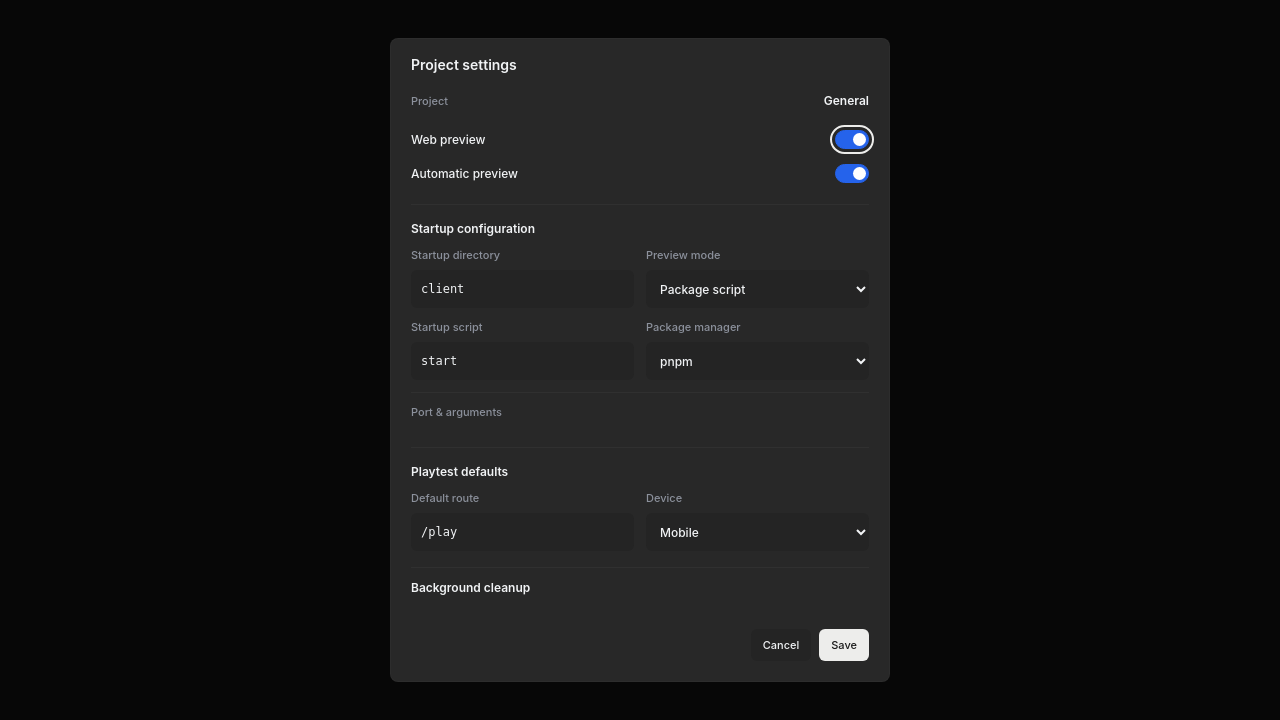
Scenario: preview settings drafts › reports invalid arguments while script mode is active
Replace the text in the field labelled "Port & arguments" with "[": (640, 412) [411, 392, 869, 431]
Wait 300 ms
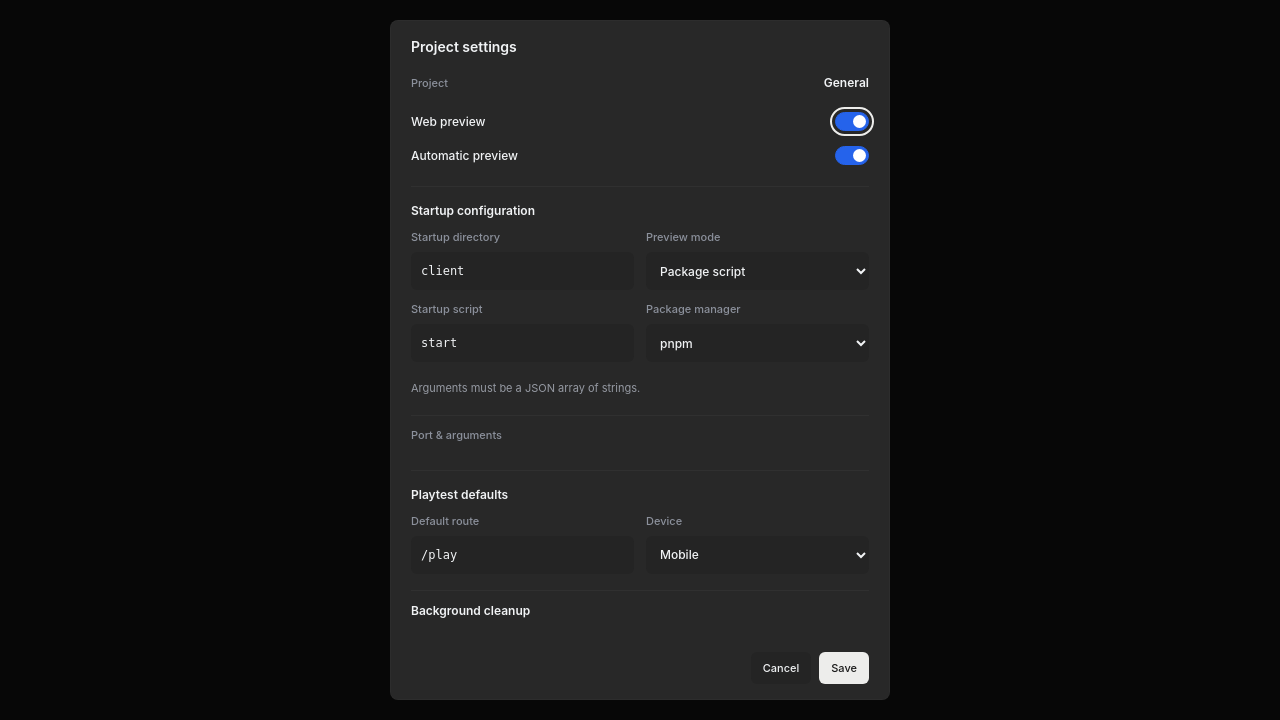
Expected: the text "Arguments must be a JSON array of strings." is shown, [411, 381, 640, 395]
Submit the form, box [391, 71, 889, 704]
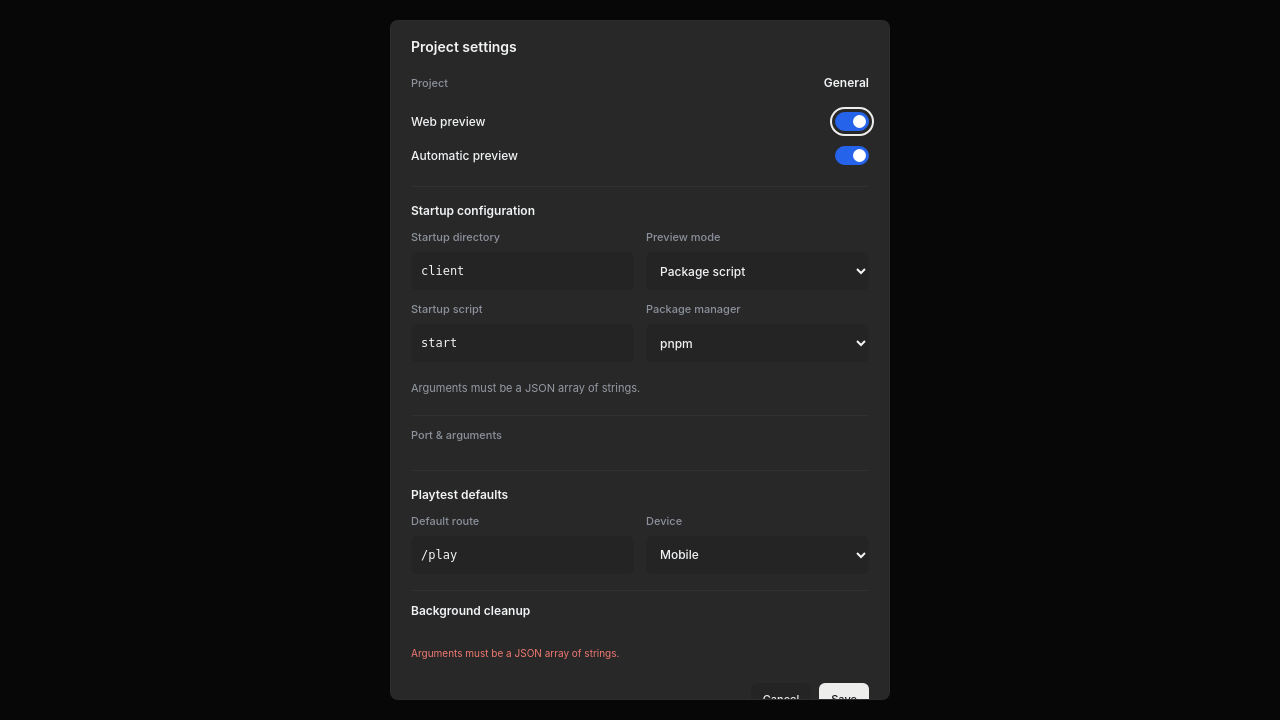
Expected: the 2nd message "Arguments must be a JSON array of strings." is shown, [411, 646, 619, 658]
